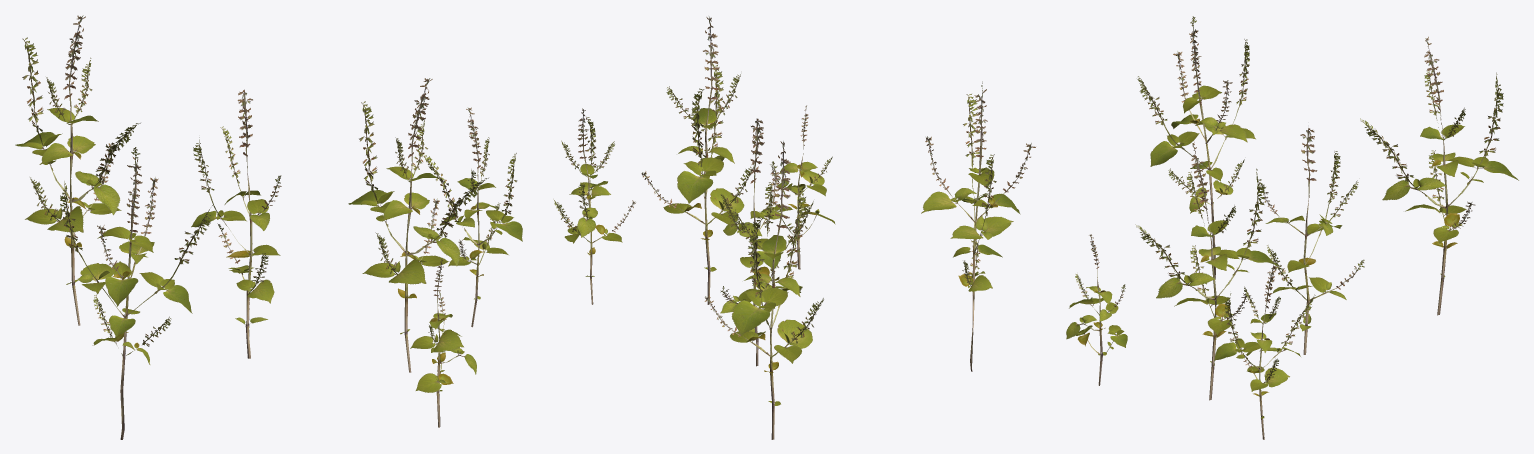
The model's file is Scan_Weeds_B.fbx.
3 views of the same model, side by side, from view 1: azimuth 30°, elevation 25°; view 2: azimuth 150°, elevation 25°; view 3: azimuth 270°, elevation 25° (orthographic). The views are drawn at different scales.
Parts seen in each view (by area): view 1: Scan_Weeds_B_LOD0; view 2: Scan_Weeds_B_LOD0; view 3: Scan_Weeds_B_LOD0.
Boxes of the visible parts, box(x1,y1,x2,y2) form: Scan_Weeds_B_LOD0: box(15, 15, 522, 439); Scan_Weeds_B_LOD0: box(553, 16, 1035, 439); Scan_Weeds_B_LOD0: box(1066, 16, 1518, 439).
Size of what is drawn, in the model's own units: 0.6305 by 0.4164 by 0.6179.
